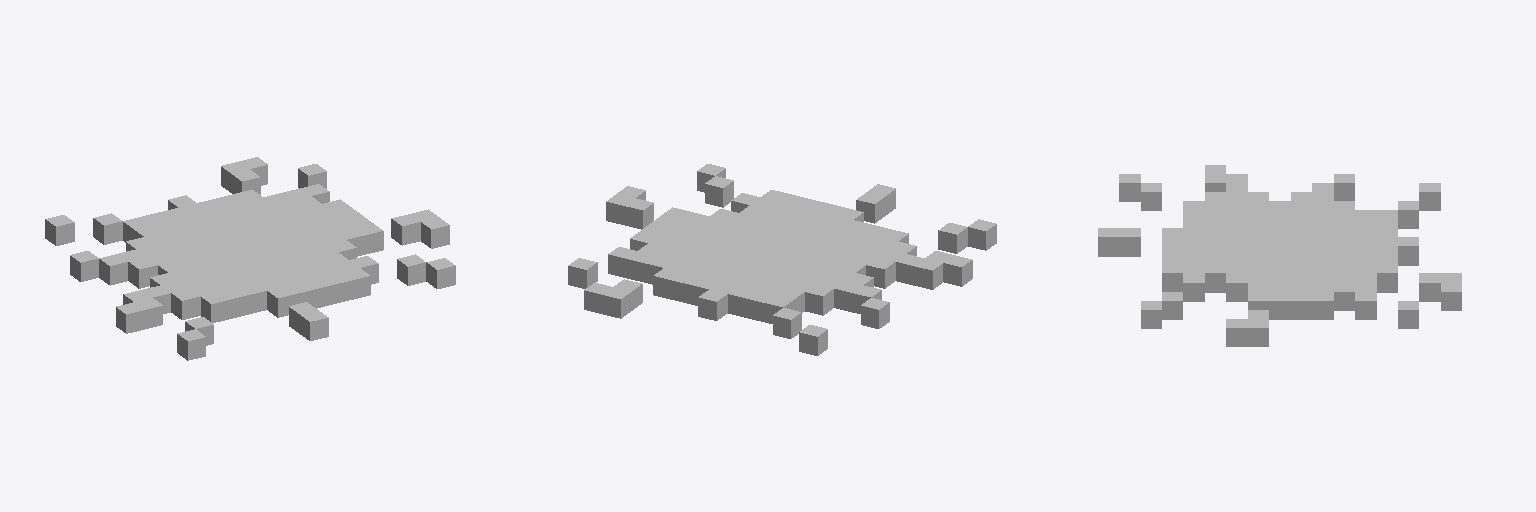
Rendered from Blood.obj.
3 renders of one model, left to right at view 1: azimuth 30°, elevation 25°; view 2: azimuth 150°, elevation 25°; view 3: azimuth 270°, elevation 25°, orthographic.
Bounding box in the file's own units: 18 × 1 × 17.